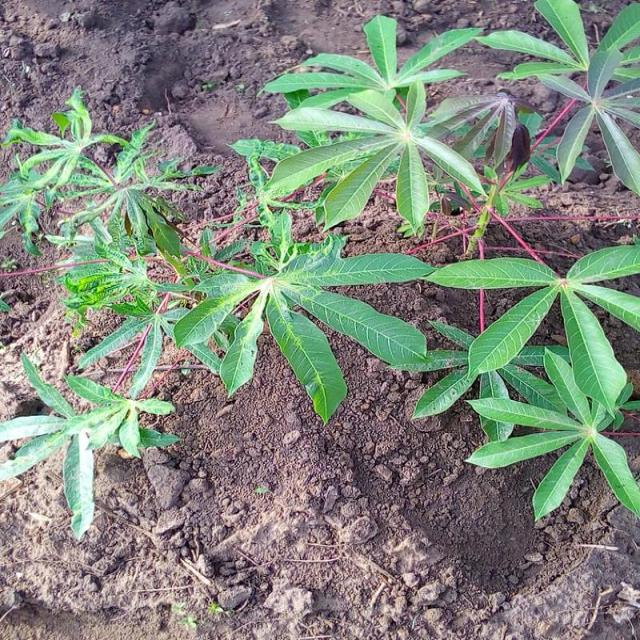cassava leaf: (2, 6, 640, 538)
